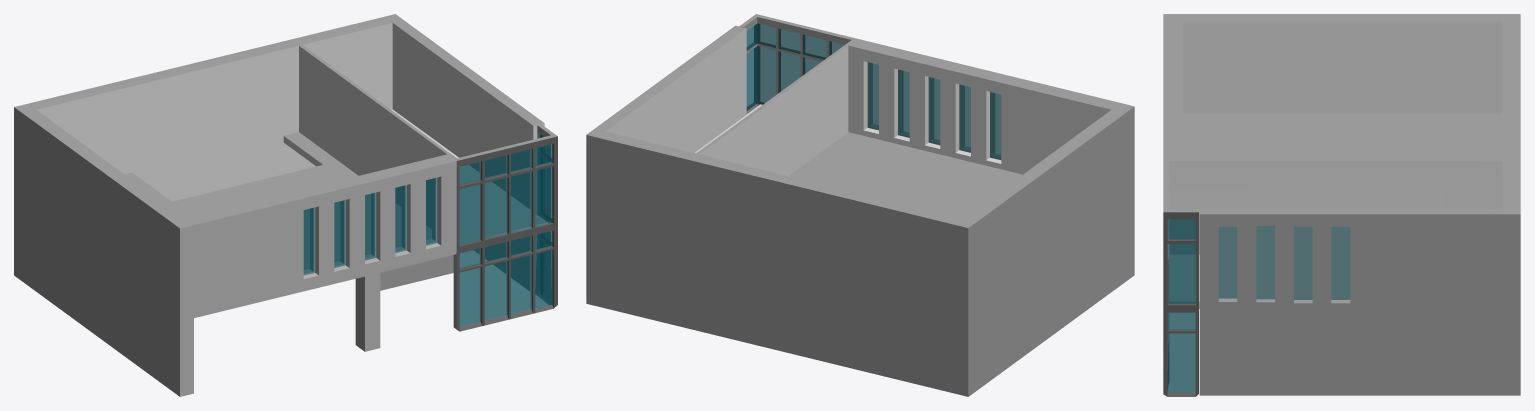
The model's file is chase_bigger_building.fbx.
The picture shows the model from 3 angles, left to right: view 1: azimuth 30°, elevation 25°; view 2: azimuth 150°, elevation 25°; view 3: azimuth 270°, elevation 25°; orthographic projection. The views are drawn at different scales.
Parts seen in each view (by area): view 1: building_base; view 2: building_base; view 3: building_base.
Part boxes in pixels (x1=…): building_base: x1=14, y1=14, x2=557, y2=396; building_base: x1=586, y1=14, x2=1134, y2=396; building_base: x1=1163, y1=14, x2=1520, y2=396.
Size of the model in its own units: 15.96 by 6.85 by 12.03.
